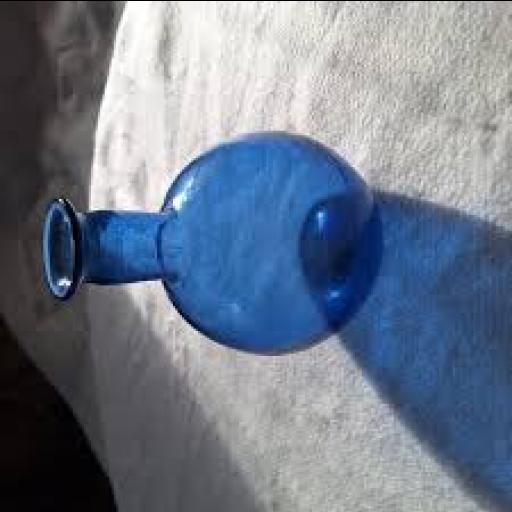blue-bottle: (41, 132, 378, 353)
